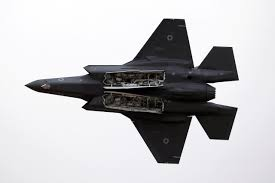fighter: (22, 17, 241, 167)
